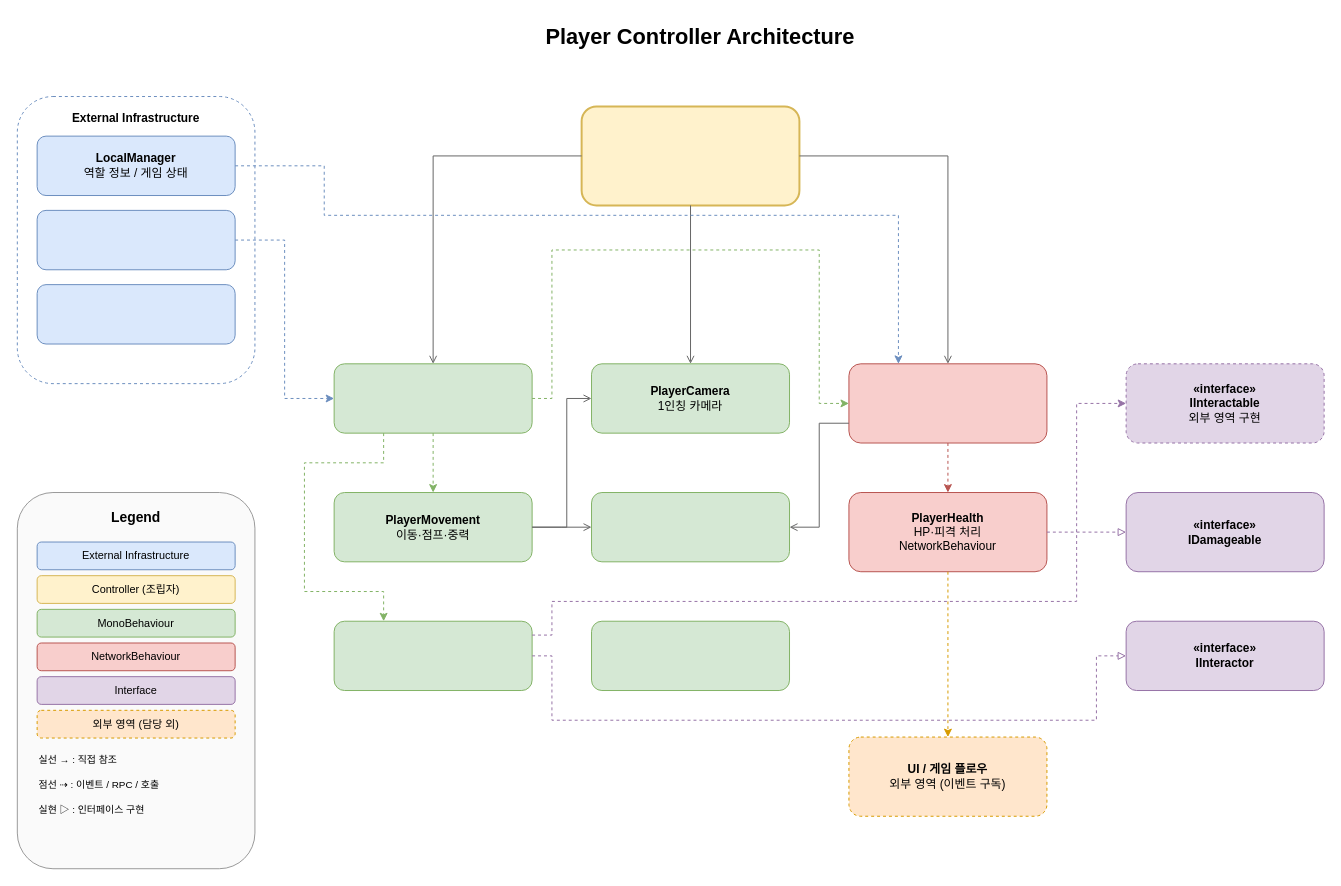
The diagram is 1341 pixels wide and 886 high, and some of its shapes have lost their labels. Each missing label, with the centre of its shape:
"BattleInputReader 입력 SO" goes at (135,239).
"FakeShadowFader 페이크 그림자 페이드" goes at (690,655).
"PlayerAnimation 애니메이터 제어" goes at (690,527).
"PlayerCombat 공격 입력·판정 NetworkBehaviour" goes at (947,403).
"PlayerController 메인 조립자 NetworkBehaviour" goes at (690,155).
"PlayerInputHandler 입력 라우팅" goes at (432,398).
"PlayerInteractor 상호작용 입력" goes at (432,655).
"TeamBase 팀 정보 / 시야 분리" goes at (135,314).
